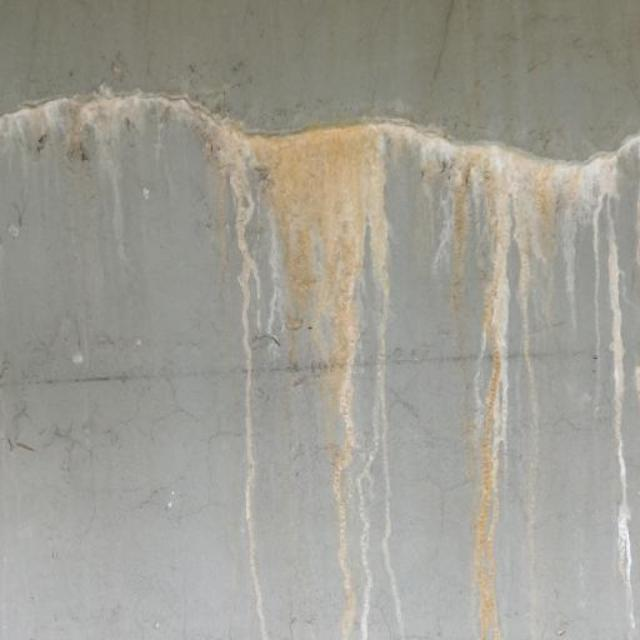D01: (0, 87, 639, 637)
